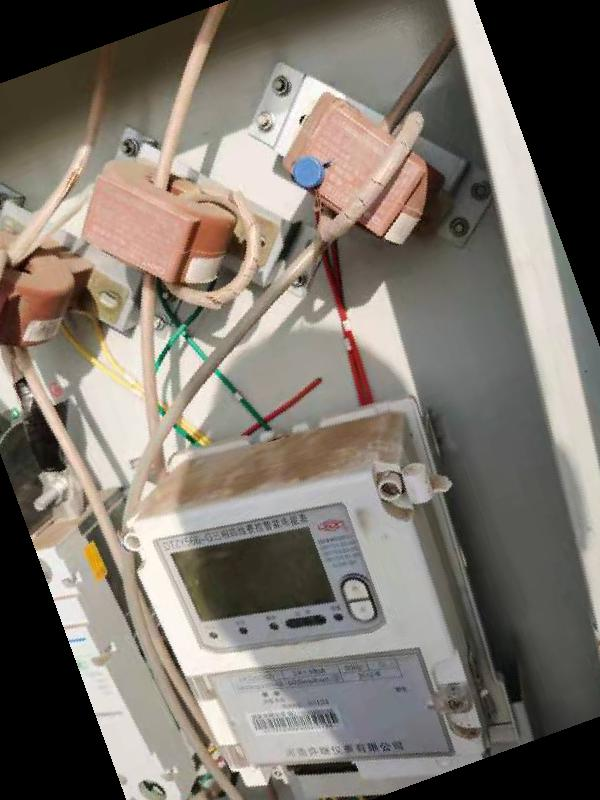digital: (130, 471, 482, 786)
